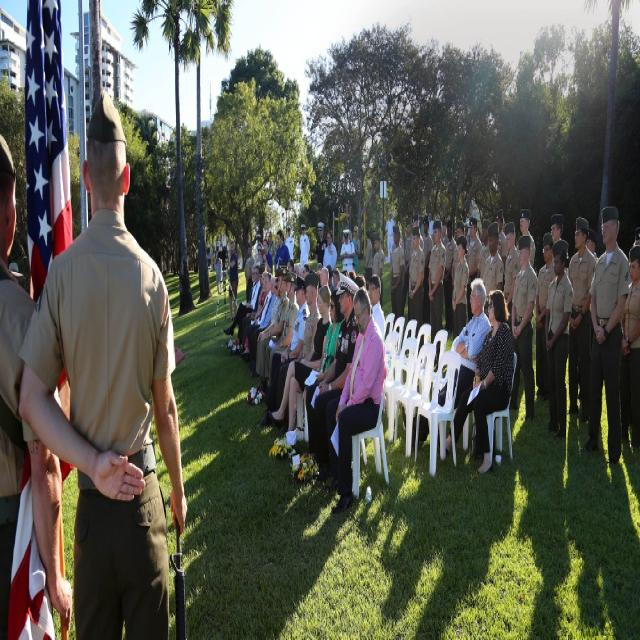body: (14, 81, 189, 639), (168, 385, 352, 640), (0, 129, 74, 640), (416, 447, 516, 640), (401, 276, 493, 448), (322, 281, 388, 519), (437, 287, 515, 478), (572, 423, 640, 640), (581, 202, 631, 466), (515, 417, 572, 640), (312, 270, 361, 480), (266, 282, 332, 434), (300, 285, 346, 460), (272, 271, 322, 431), (379, 440, 416, 622), (566, 214, 597, 426), (508, 232, 540, 430), (545, 238, 575, 442), (268, 273, 312, 407), (245, 266, 284, 398), (265, 270, 299, 406), (259, 266, 291, 402), (619, 244, 640, 450), (534, 231, 555, 399), (222, 264, 262, 346), (245, 269, 275, 376), (428, 217, 448, 369), (236, 263, 267, 355), (407, 224, 426, 358), (481, 221, 505, 318), (243, 270, 270, 356), (450, 234, 470, 341), (465, 216, 484, 323), (502, 220, 520, 330), (442, 218, 458, 337), (366, 272, 386, 344), (515, 205, 537, 268), (400, 219, 414, 317), (421, 215, 433, 326), (451, 219, 469, 289), (226, 239, 240, 323), (475, 217, 492, 280), (338, 227, 356, 274), (409, 214, 425, 264), (363, 226, 374, 296), (274, 228, 292, 268), (4, 255, 23, 292), (314, 221, 328, 268), (384, 209, 396, 263), (493, 208, 507, 254), (372, 234, 386, 278), (322, 230, 337, 270), (340, 269, 367, 291), (298, 223, 310, 272), (389, 224, 405, 256), (352, 223, 361, 276), (261, 236, 273, 273), (549, 210, 563, 241), (584, 226, 598, 256), (214, 250, 223, 294), (324, 264, 339, 290), (284, 224, 294, 262), (266, 231, 274, 268), (314, 260, 324, 285), (631, 224, 640, 246), (427, 212, 434, 236), (300, 262, 310, 278), (286, 257, 294, 277), (245, 241, 252, 259), (256, 242, 262, 262)
